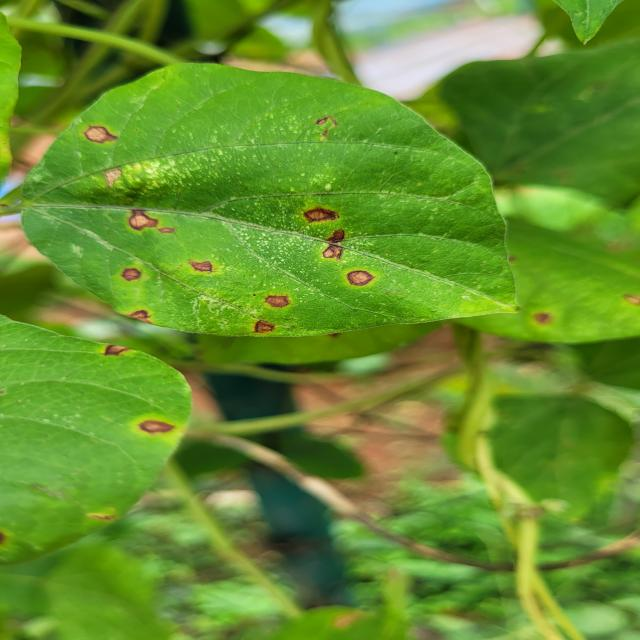Dolicos bean_cercospora leaf spot: (0, 65, 529, 332), (0, 319, 204, 562)
Dolicos bean_healthy: (472, 383, 640, 519)
